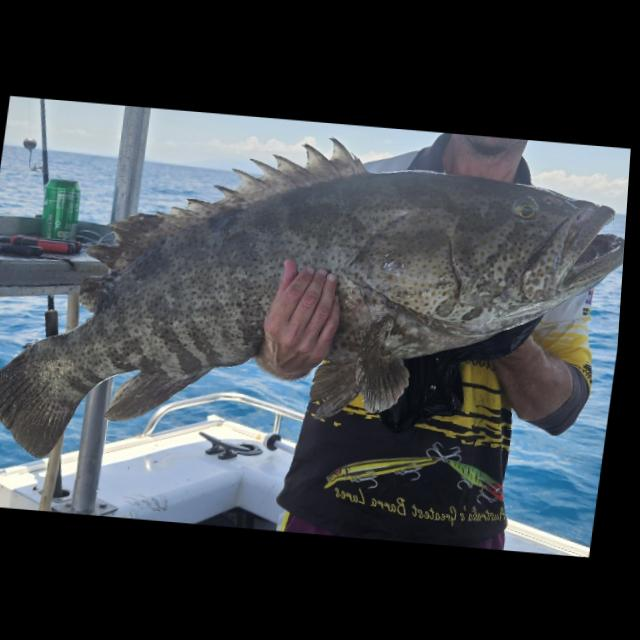Groupers: (0, 106, 633, 504)
